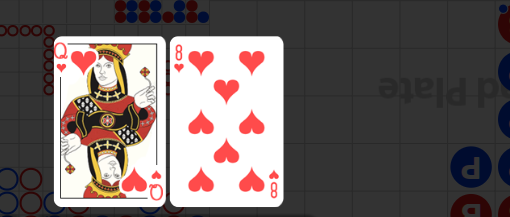8H: (267, 167, 280, 199)
9H: (149, 169, 164, 202)
